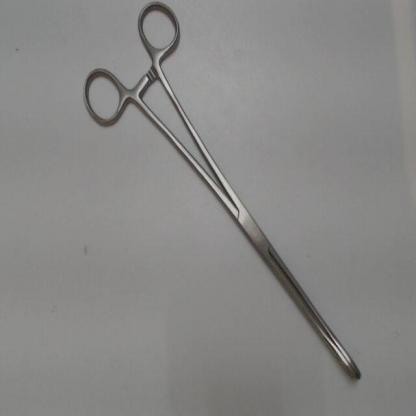Sponge Forceps: (76, 1, 364, 386)
